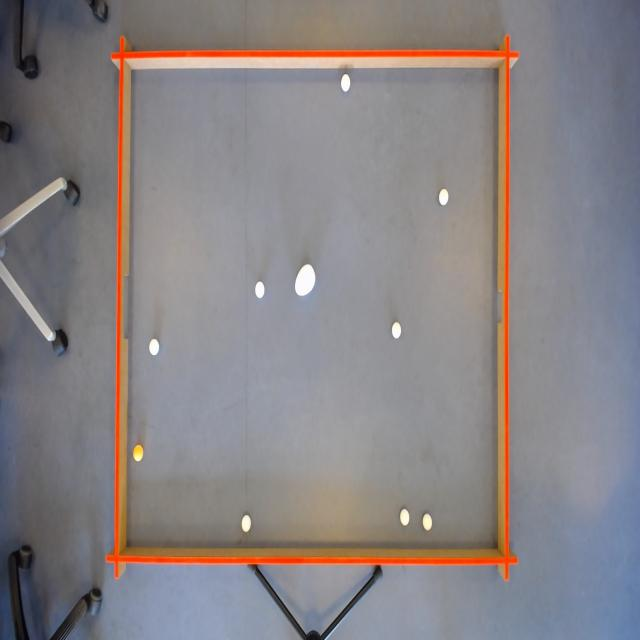egg: (293, 261, 317, 300)
orange_ball: (133, 442, 145, 466)
white_ball: (339, 70, 353, 95), (147, 336, 162, 359), (252, 278, 266, 302), (421, 510, 434, 533), (240, 512, 252, 536), (398, 506, 411, 528), (438, 186, 450, 208), (391, 319, 402, 339)
